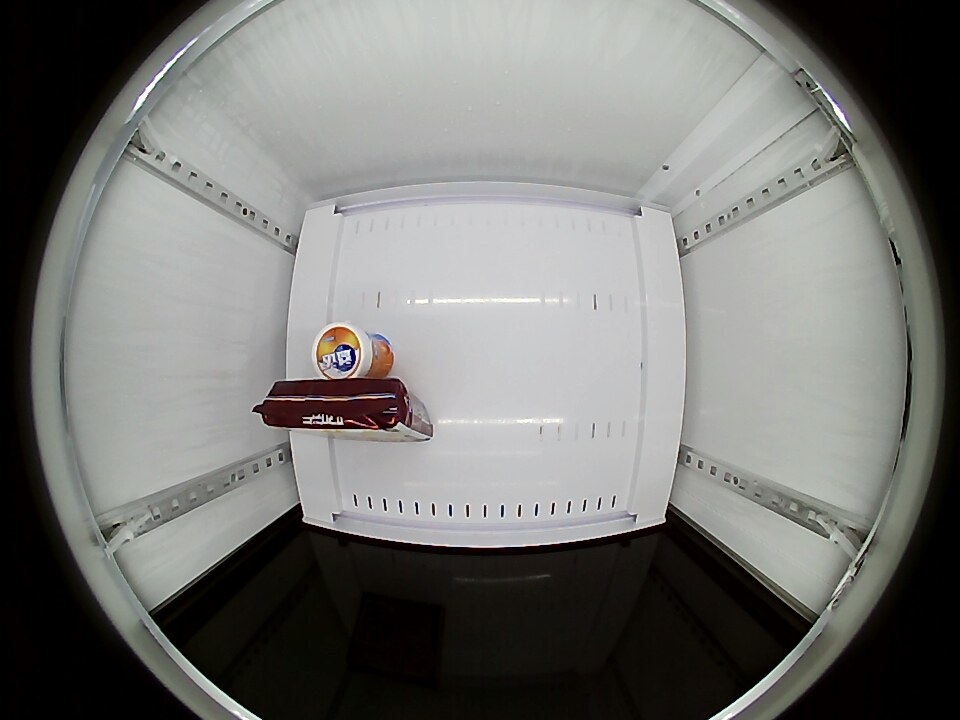haochidian: (257, 379, 409, 434)
